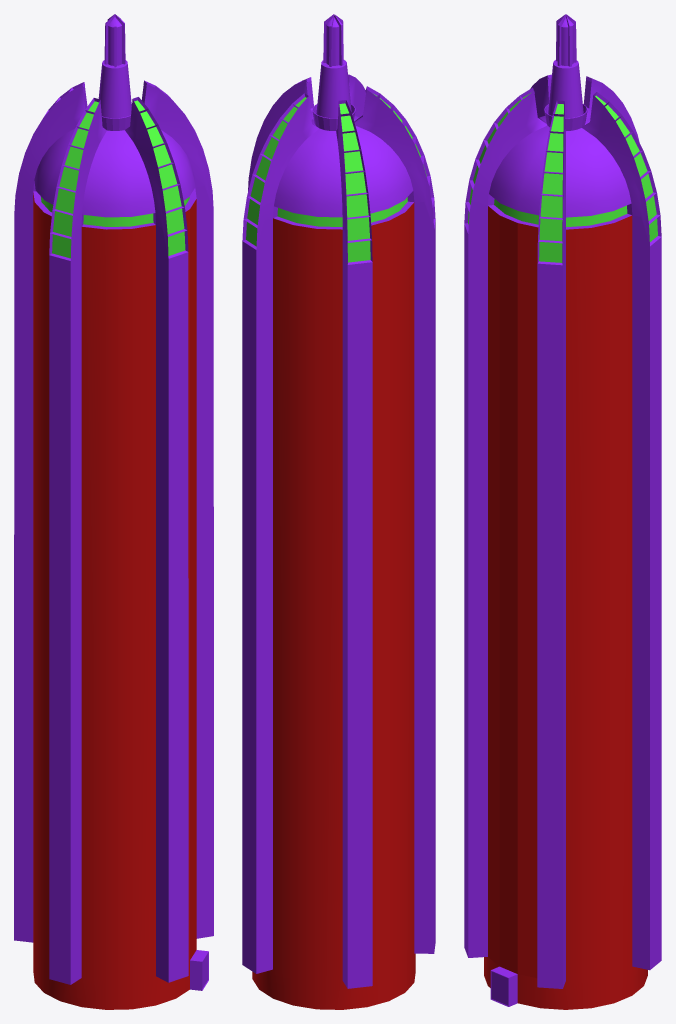
File: Building.9.fbx
3 views of the same model, side by side, from view 1: azimuth 30°, elevation 25°; view 2: azimuth 150°, elevation 25°; view 3: azimuth 270°, elevation 25° (orthographic).
Parts seen in each view (by area): view 1: Building_9; view 2: Building_9; view 3: Building_9.
Boxes of the visible parts, x1,y1,x2,y2 form: Building_9: (14, 14, 213, 1009); Building_9: (242, 14, 435, 1009); Building_9: (464, 14, 661, 1009).
Size of the model in its own units: 3267 by 17547 by 3267.
